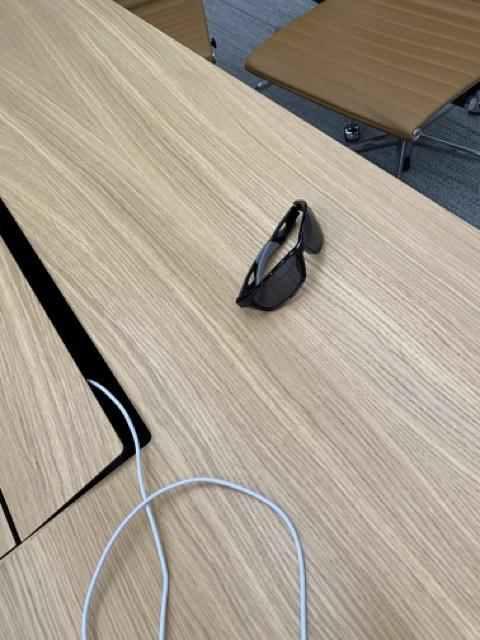Sunglasses: (235, 198, 326, 313)
